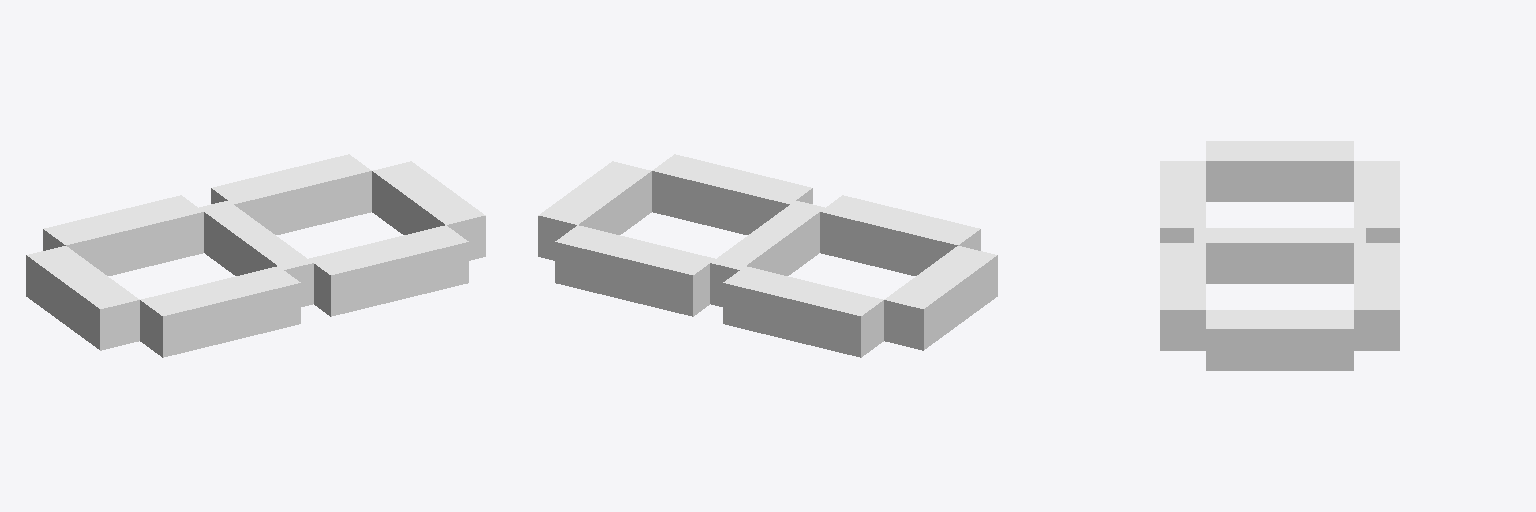
The model's file is chain.obj.
3 renders of one model, left to right at view 1: azimuth 30°, elevation 25°; view 2: azimuth 150°, elevation 25°; view 3: azimuth 270°, elevation 25°, orthographic.
Bounding box in the file's own units: 39 × 4 × 21.